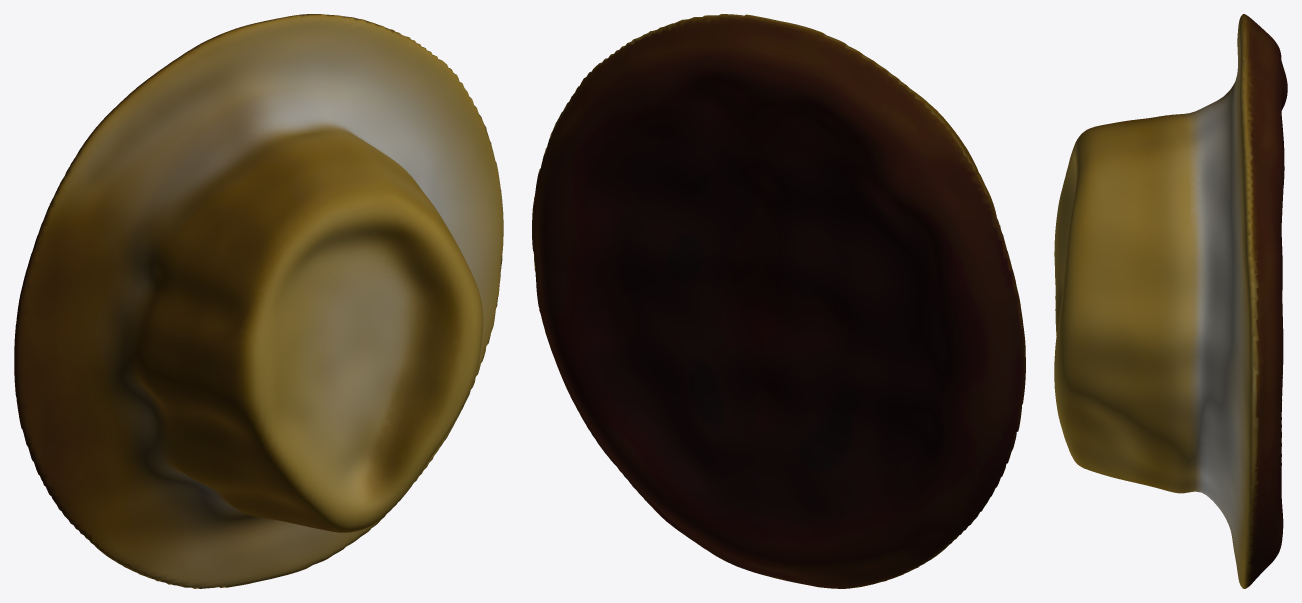
The model's file is hat.glb.
The picture shows the model from 3 angles, left to right: view 1: azimuth 30°, elevation 25°; view 2: azimuth 150°, elevation 25°; view 3: azimuth 270°, elevation 25°; orthographic projection. The views are drawn at different scales.
Size of the model in its own units: 0.917 by 0.9961 by 0.403.
